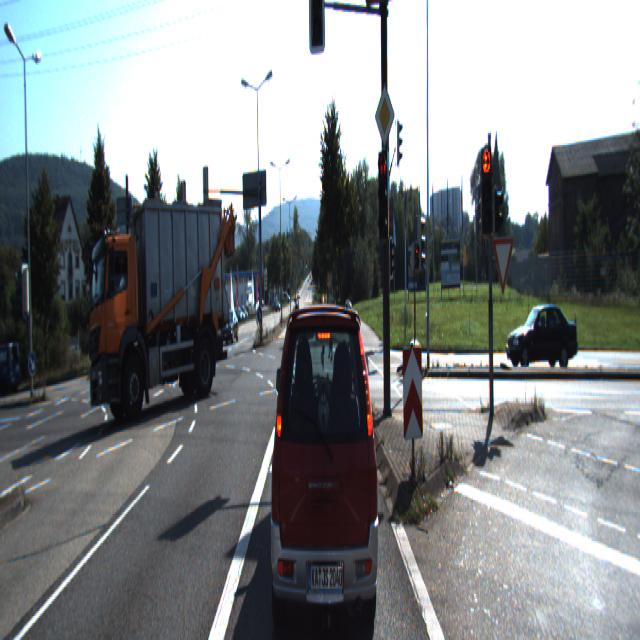Car: (267, 280, 382, 638), (89, 196, 238, 427), (507, 300, 580, 374), (0, 336, 24, 398), (195, 316, 215, 350), (172, 321, 192, 355), (219, 309, 239, 343)
